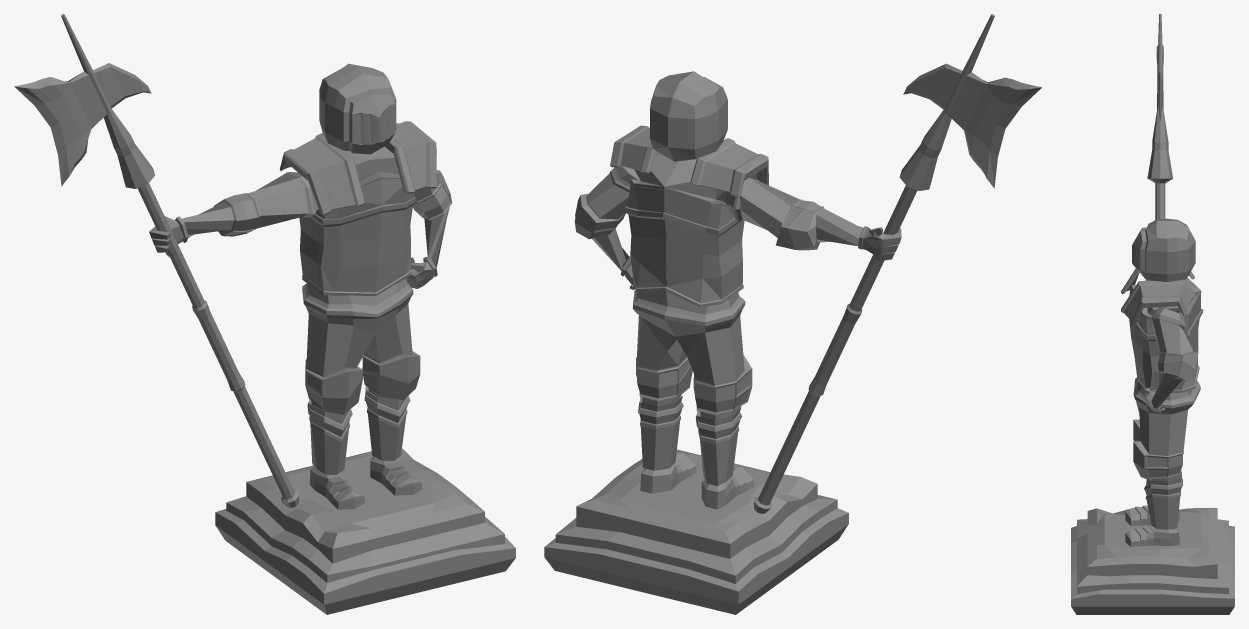
File: KnightStatueAxeRight.fbx
The picture shows the model from 3 angles, left to right: view 1: azimuth 30°, elevation 25°; view 2: azimuth 150°, elevation 25°; view 3: azimuth 270°, elevation 25°; orthographic projection. The views are drawn at different scales.
Visible parts, largest first — view 1: KnightStatueAxeRight; view 2: KnightStatueAxeRight; view 3: KnightStatueAxeRight.
Boxes of the visible parts, bbox=[...] form: KnightStatueAxeRight: bbox=[14, 14, 515, 614]; KnightStatueAxeRight: bbox=[544, 14, 1041, 614]; KnightStatueAxeRight: bbox=[1071, 14, 1234, 614].
Size of the model in its own units: 222 by 288 by 93.17.
1 material, 1 textured.
